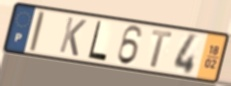4: (173, 31, 197, 77)
6: (116, 24, 144, 67)
I: (28, 10, 47, 53)
K: (57, 15, 89, 58)
L: (86, 19, 108, 63)
T: (149, 29, 174, 70)
